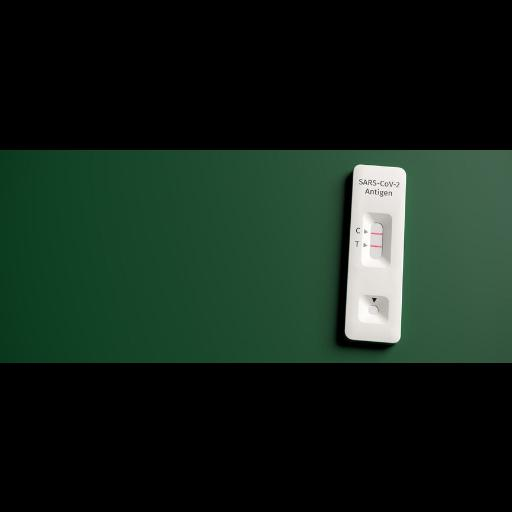Pos: (343, 163, 409, 344)
